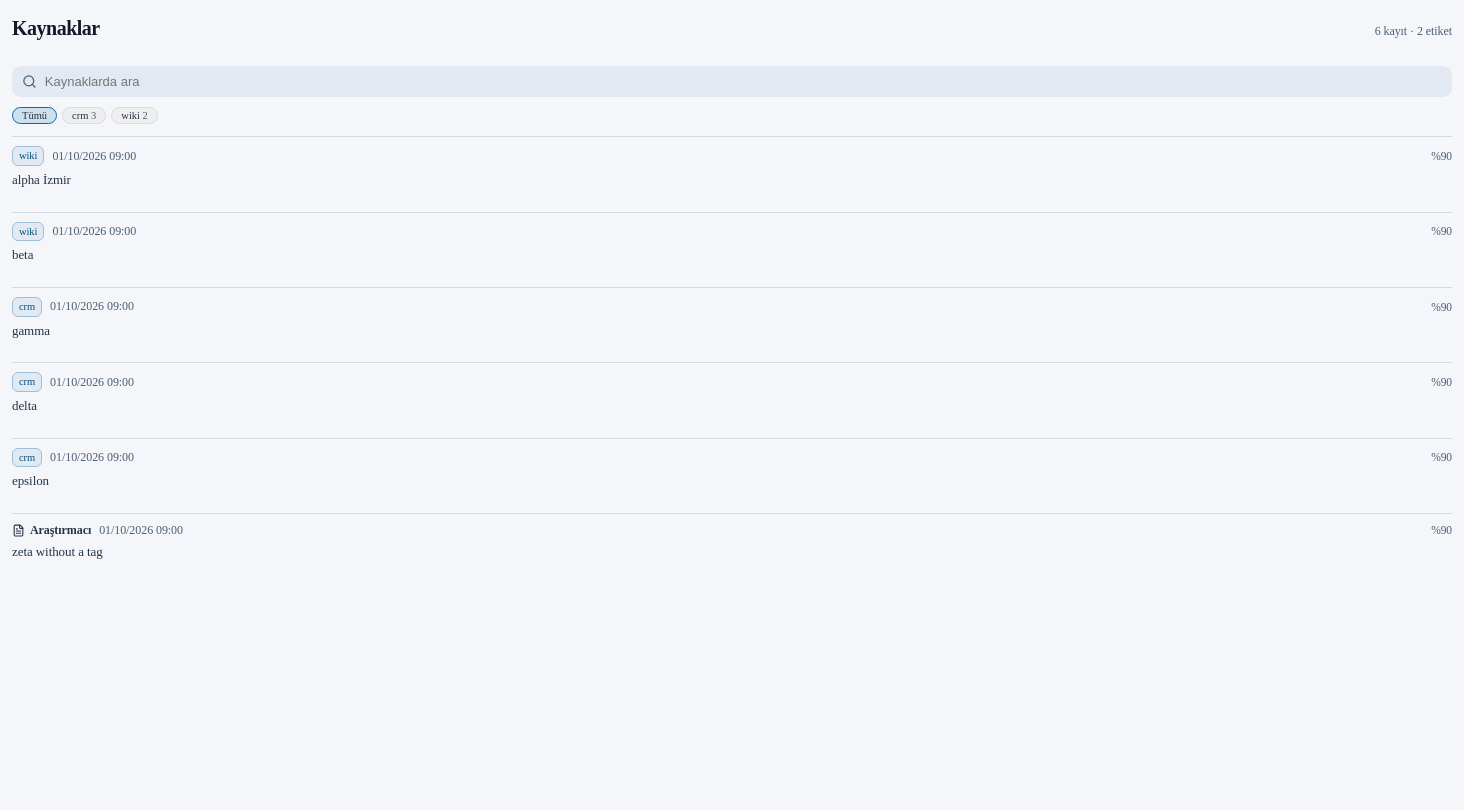
it: SourceList › filters by tag and starts on the tag it was opened with
Step 1. Click the button "crm 3" → (84, 116), box [62, 107, 106, 124]
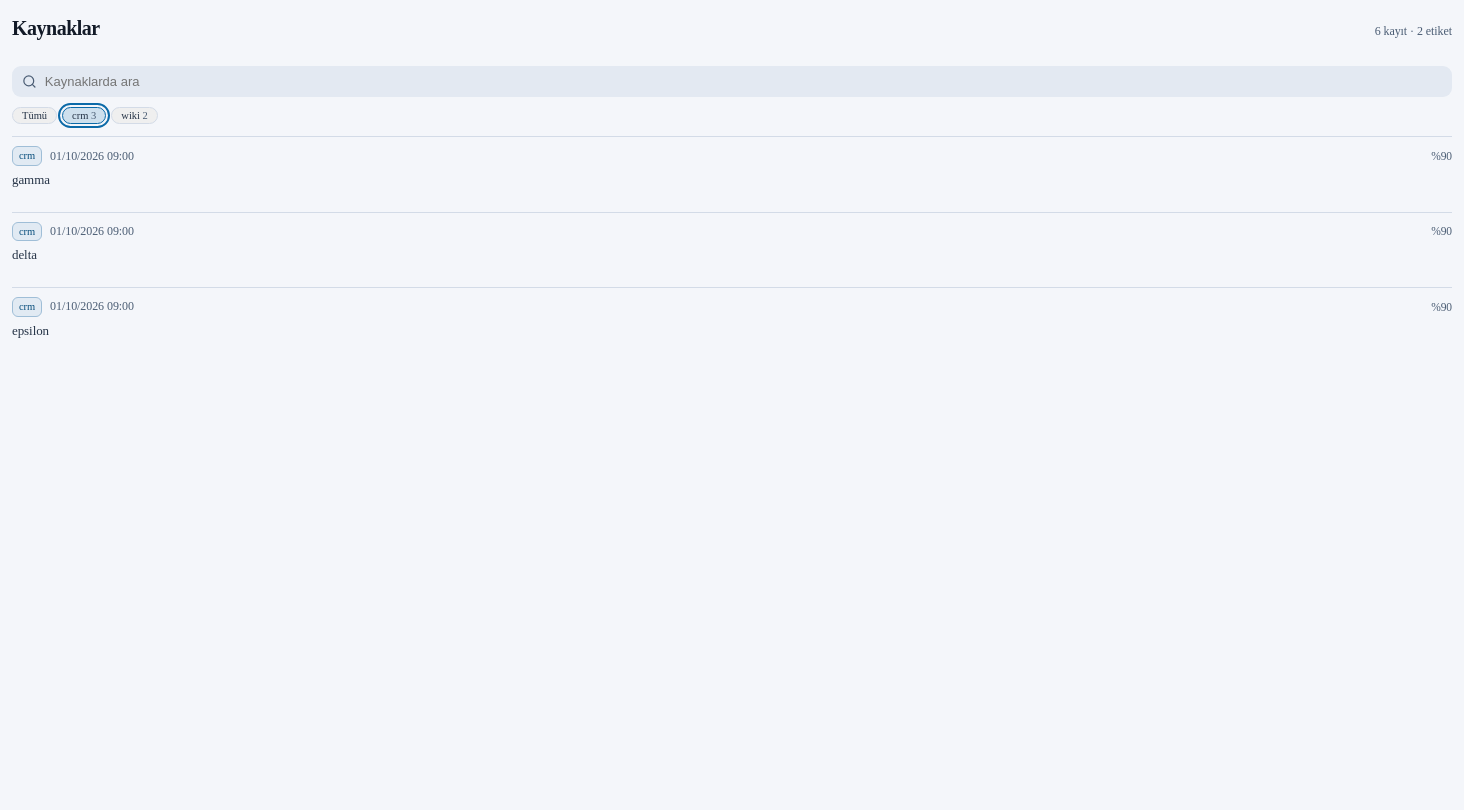
Expected: the number of list items is 3, [12, 136, 1452, 212]; [12, 212, 1452, 287]; [12, 287, 1452, 362]
